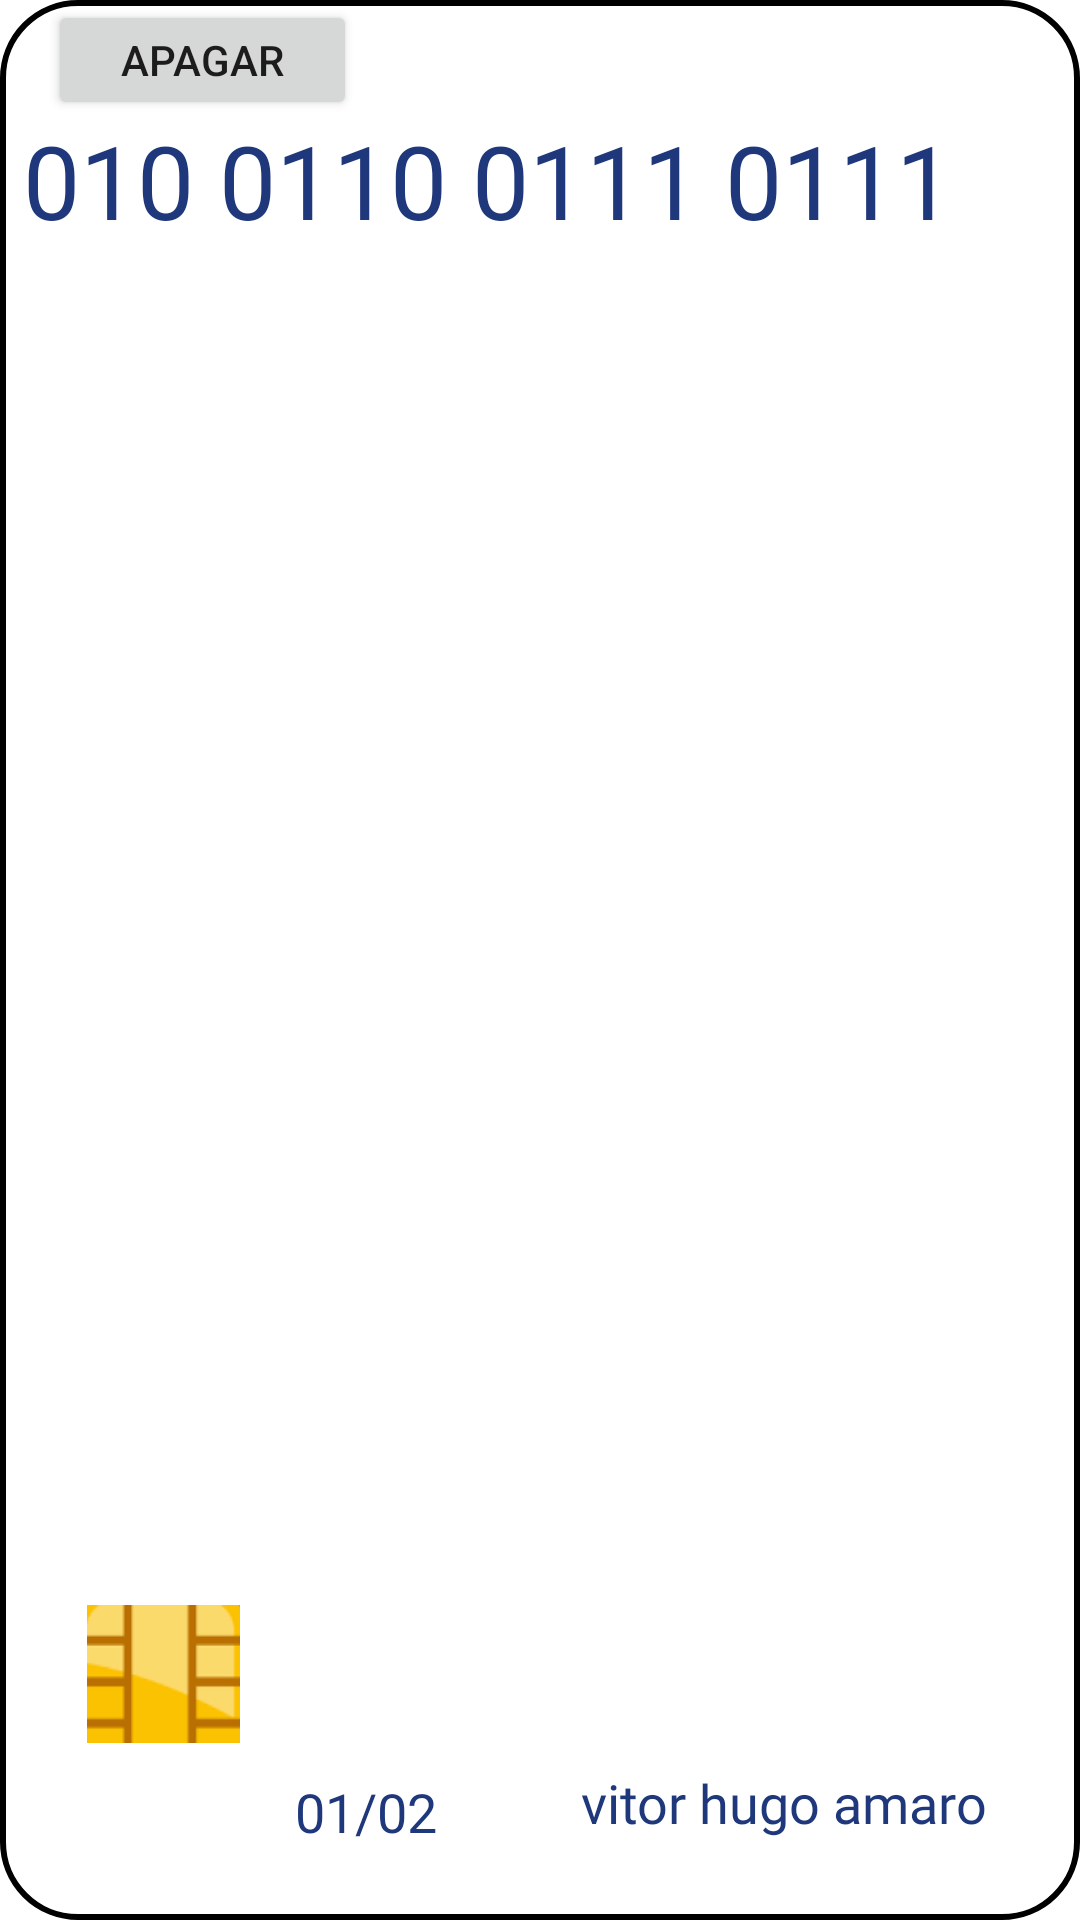

Named icons in this screenshot (1080 × 1920) and their bounding boxes, (x1, y1, x2, y2):
chipe: (87, 1605, 240, 1743)
